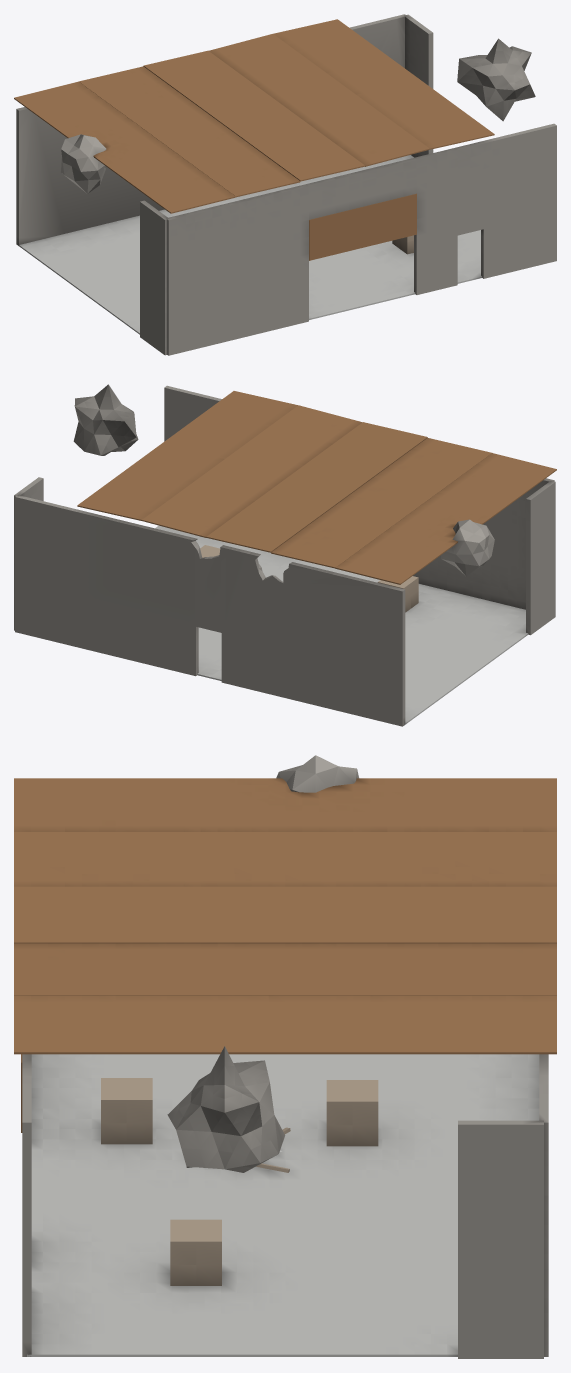
Rendered from galpao_r1.glb.
3 views of the same model, one above another, from view 1: azimuth 30°, elevation 25°; view 2: azimuth 150°, elevation 25°; view 3: azimuth 270°, elevation 25° (orthographic). The views are drawn at different scales.
Visible parts, largest first — view 1: telhado, ext_0, chao, ext_2, ext_3, ext_1, portao; view 2: ext_2, telhado, chao, ext_0, ext_3, ext_1, engradado; view 3: telhado, chao, ext_1, engradado-col.002, engradado, engradado-col.001, ext_0, ext_3, ext_2.
Part boxes in pixels (bbox=[...]): telhado: bbox=[14, 19, 494, 213]; ext_0: bbox=[166, 123, 556, 355]; chao: bbox=[17, 155, 482, 334]; ext_2: bbox=[16, 14, 406, 245]; ext_3: bbox=[61, 134, 167, 355]; ext_1: bbox=[404, 14, 535, 157]; portao: bbox=[309, 193, 416, 260]; ext_2: bbox=[15, 495, 405, 726]; telhado: bbox=[77, 391, 556, 584]; chao: bbox=[155, 525, 528, 725]; ext_0: bbox=[164, 385, 554, 609]; ext_3: bbox=[441, 481, 555, 635]; ext_1: bbox=[14, 384, 138, 630]; engradado: bbox=[377, 576, 418, 612]; telhado: bbox=[14, 778, 556, 1054]; chao: bbox=[27, 1054, 539, 1356]; ext_1: bbox=[167, 1046, 543, 1358]; engradado-col.002: bbox=[326, 1080, 378, 1146]; engradado: bbox=[101, 1078, 152, 1144]; engradado-col.001: bbox=[170, 1219, 221, 1285]; ext_0: bbox=[22, 1054, 31, 1356]; ext_3: bbox=[276, 755, 358, 792]; ext_2: bbox=[539, 1054, 548, 1356].
Size of what is drawn, in the model's own units: 20.44 by 8.16 by 12.6.
